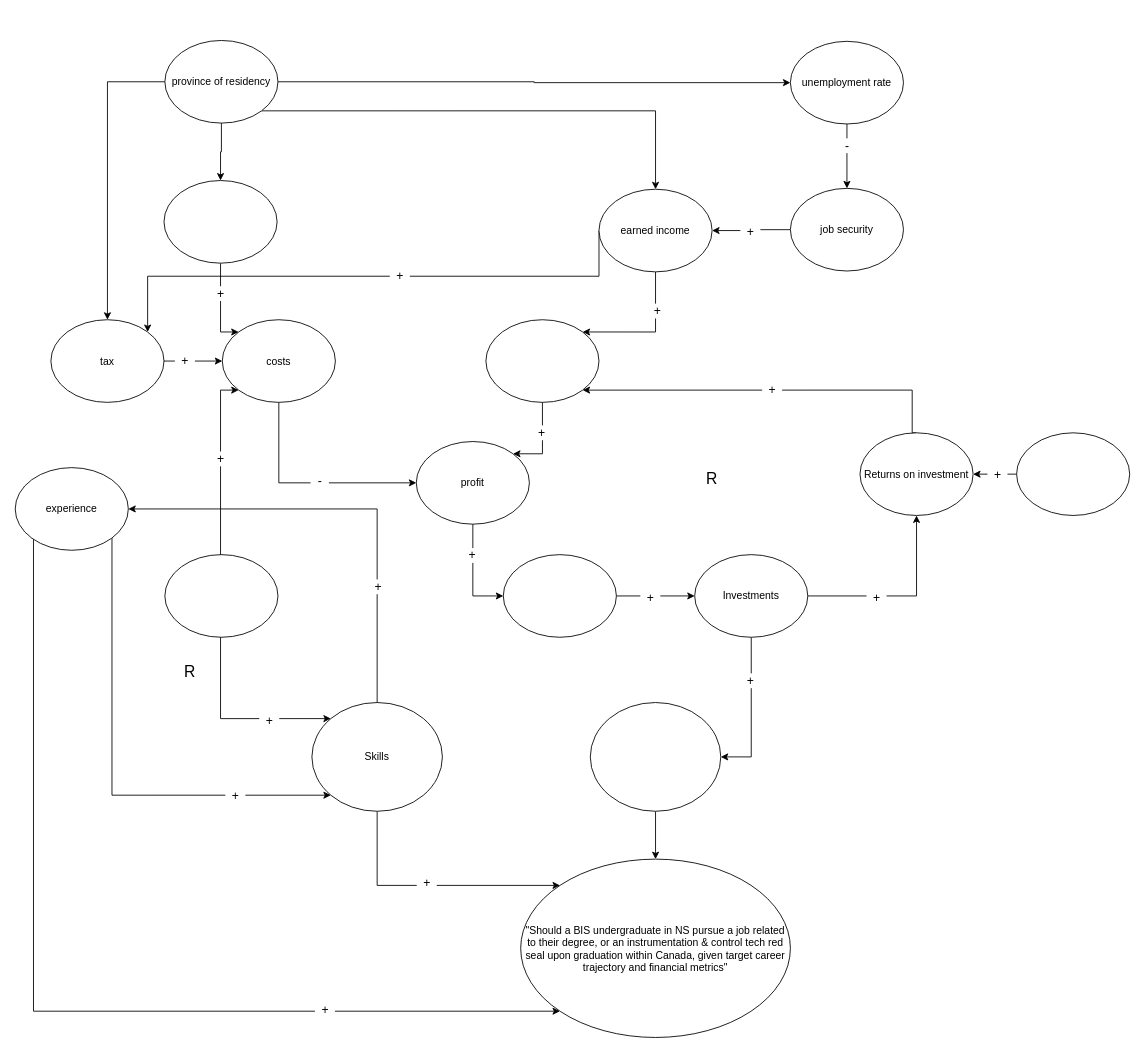
The diagram is 1145 pixels wide and 1053 high, and some of its shapes have lost their labels. Here are the shapes that lost their labels. From the top down, the centre of each, then its label:
At point (220, 221): "CPI".
At point (542, 360): "incomes".
At point (1073, 473): "ROR".
At point (221, 595): "education".
At point (559, 595): "Savings".
At point (655, 756): "Wealth".
